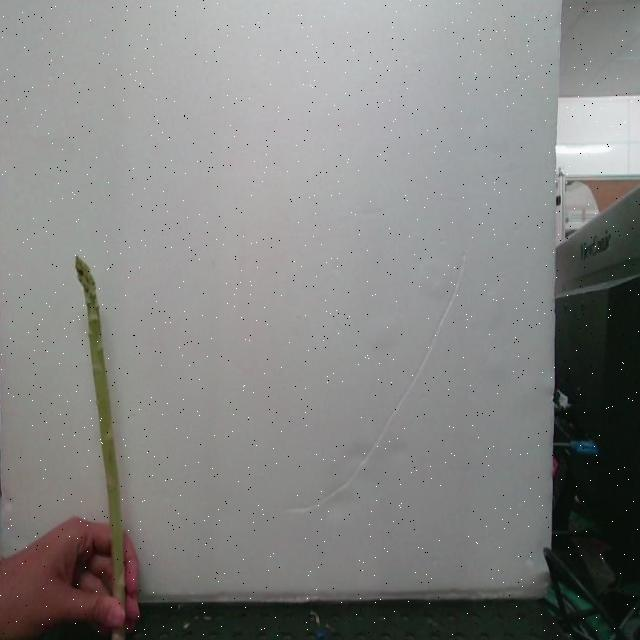aspargus: (74, 257, 132, 608)
